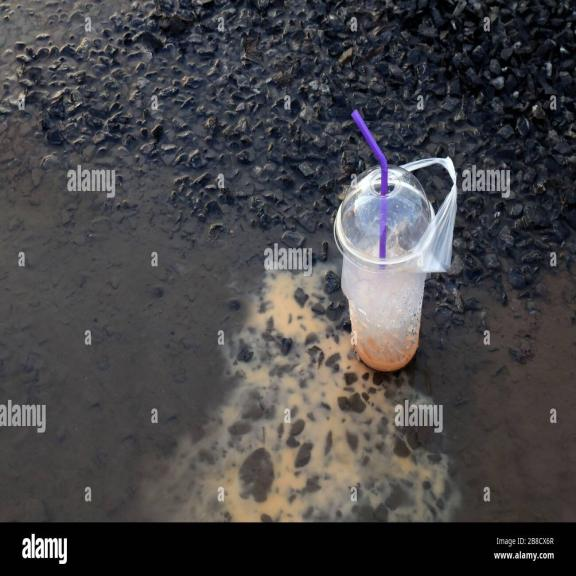Plastik: (335, 166, 451, 371)
